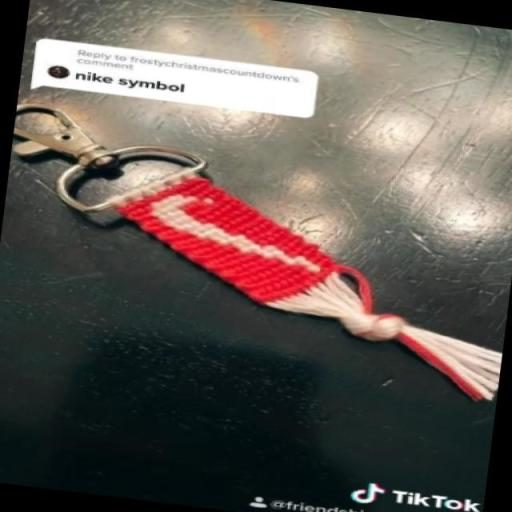Nike: (139, 188, 336, 274)
